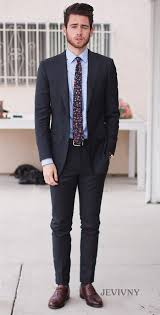F_M_suit jacket: (33, 49, 124, 173)
F_dress pants: (47, 145, 107, 289)
F_shirt: (64, 44, 91, 144)
F_tie: (73, 57, 85, 144)
